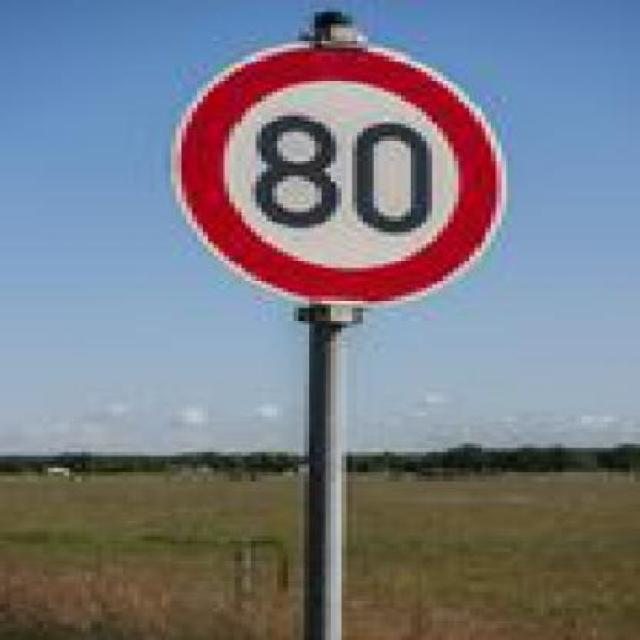speed limit 80: (171, 38, 508, 302)
